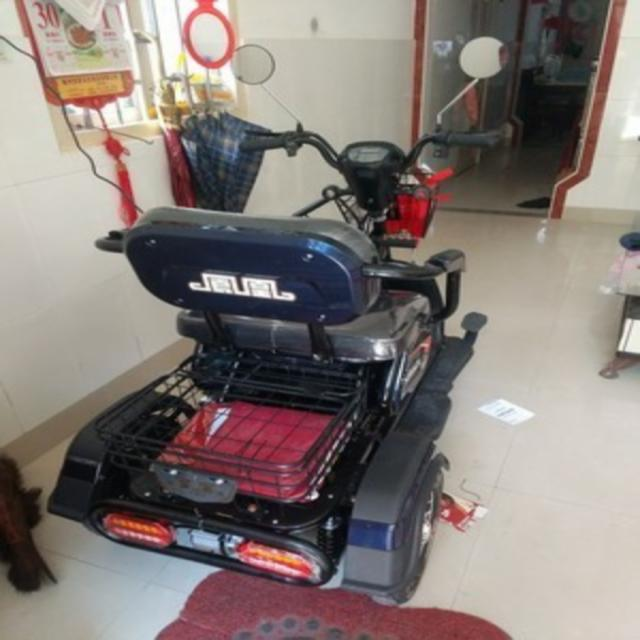tricycle: (41, 34, 512, 603)
